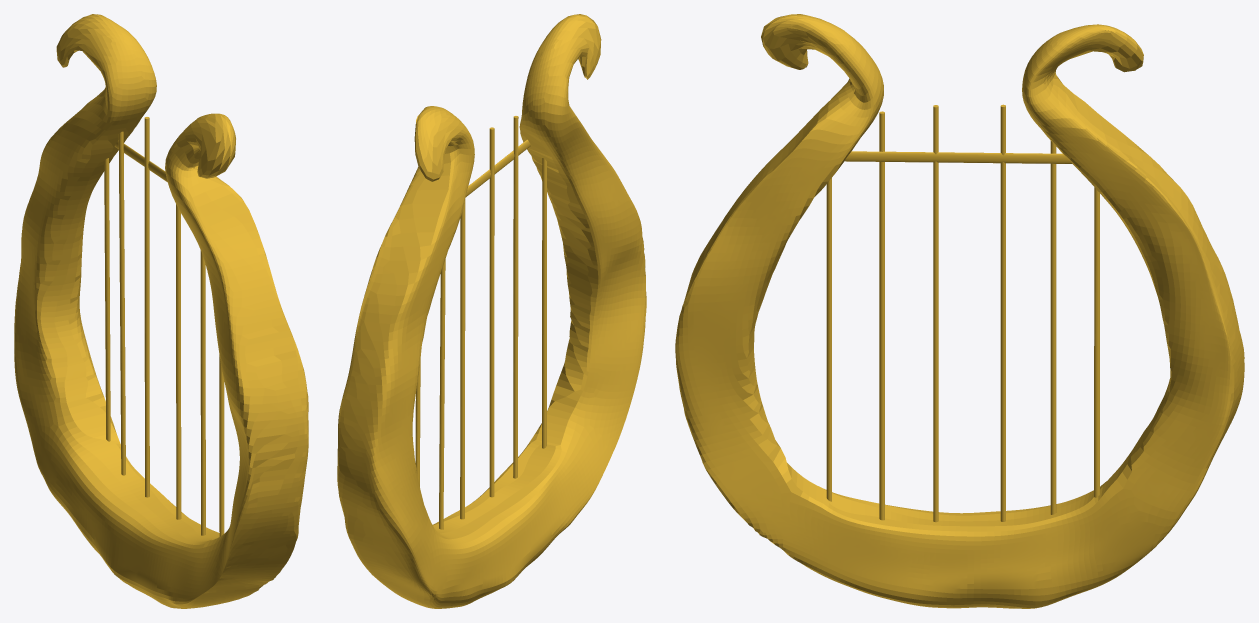
The model's file is harp.fbx.
The picture shows the model from 3 angles, left to right: view 1: azimuth 30°, elevation 25°; view 2: azimuth 150°, elevation 25°; view 3: azimuth 270°, elevation 25°; orthographic projection. The views are drawn at different scales.
Parts seen in each view (by area): view 1: 실린더.007; view 2: 실린더.007; view 3: 실린더.007.
Boxes of the visible parts, <box> form: 실린더.007: <box>14,14,308,608</box>; 실린더.007: <box>337,14,646,608</box>; 실린더.007: <box>675,14,1244,608</box>.
Size of the model in its own units: 103 by 658 by 584.
